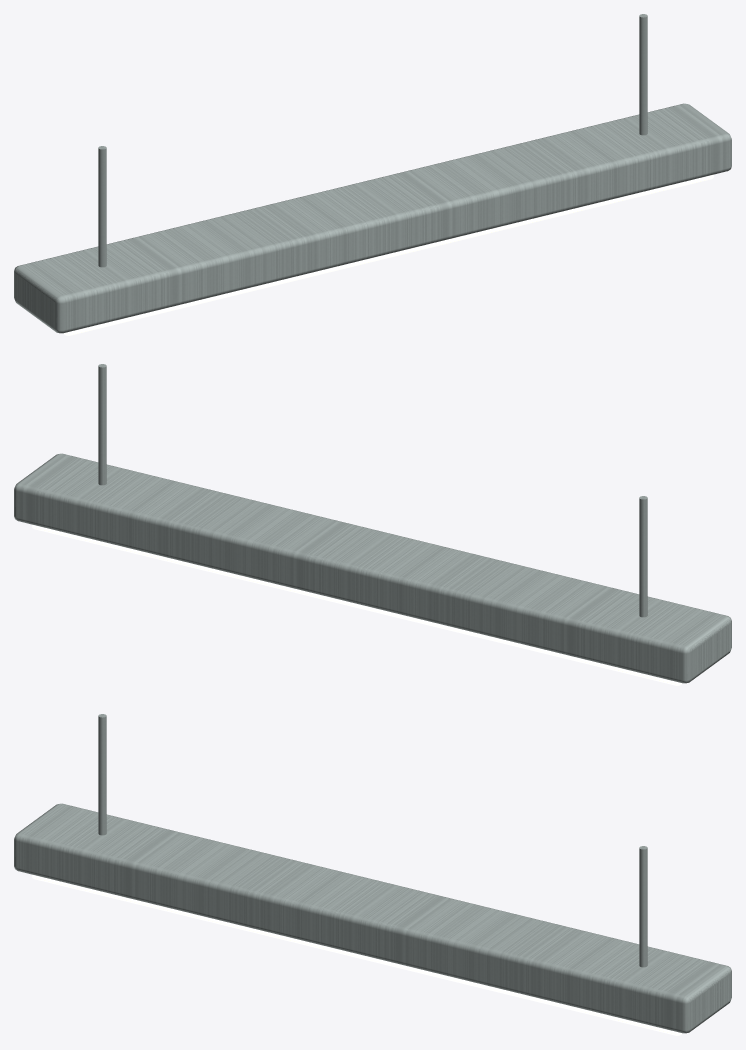
Rendered from detail-ceiling-light-0.glb.
3 views of the same model, one above another, from view 1: azimuth 30°, elevation 25°; view 2: azimuth 150°, elevation 25°; view 3: azimuth 330°, elevation 25° (orthographic).
Visible parts, largest first — view 1: light_housing, diffuser, suspension (×2); view 2: light_housing, diffuser, suspension (×2); view 3: light_housing, diffuser, suspension (×2).
Part boxes in pixels (left/top/right/bottom): light_housing: left=14, top=103, right=731, bottom=333; diffuser: left=63, top=174, right=713, bottom=335; suspension (×2): left=98, top=14, right=647, bottom=267; light_housing: left=14, top=453, right=731, bottom=683; diffuser: left=32, top=524, right=682, bottom=685; suspension (×2): left=98, top=364, right=647, bottom=617; light_housing: left=14, top=803, right=731, bottom=1033; diffuser: left=32, top=874, right=682, bottom=1035; suspension (×2): left=98, top=714, right=647, bottom=967.
Bounding box in the file's own units: 1.5 × 0.3475 × 0.18.
2 materials, 1 textured.
